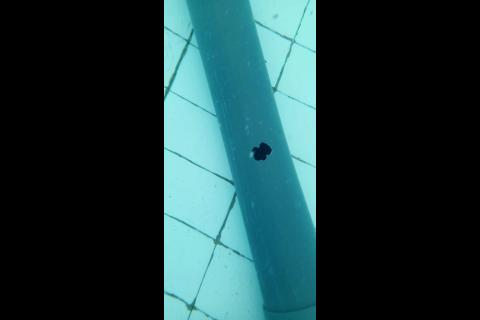kebocoran: (250, 140, 273, 163)
